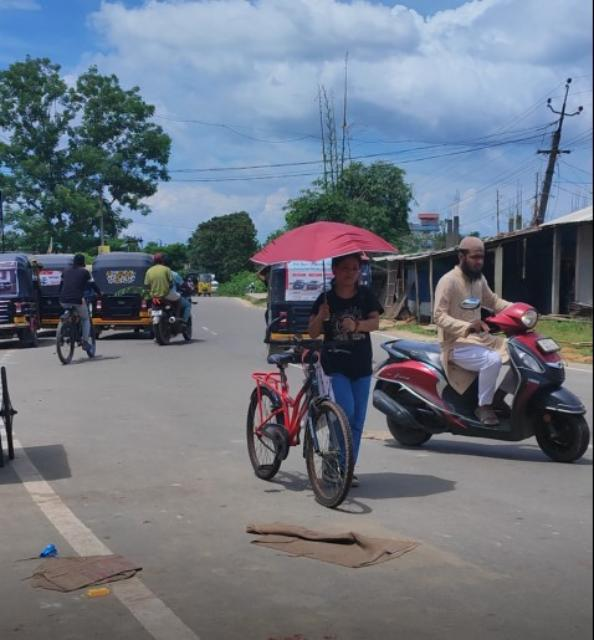licensePlate: (538, 339, 563, 352), (150, 307, 162, 316)
motorcycle: (384, 230, 591, 457), (141, 248, 198, 349)
withoutHelmet: (462, 237, 490, 276), (150, 252, 167, 267)
